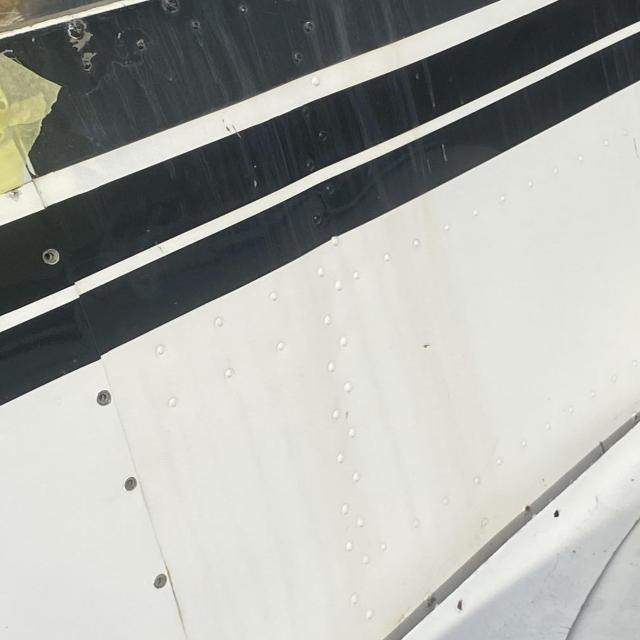Missing-head: (40, 248, 61, 265), (96, 390, 113, 406), (153, 573, 168, 588), (124, 476, 138, 492)
Paint-off: (421, 343, 433, 352)
